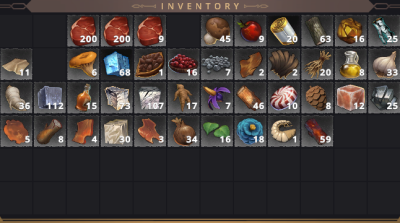ash log: (301, 15, 333, 46)
aurelium ore: (335, 15, 366, 47)
birch log: (368, 15, 400, 47)
durable hide: (234, 48, 267, 80)
granite stone: (33, 81, 66, 113)
limestone stone: (101, 82, 132, 115)
marble stone: (135, 82, 166, 114)
oak log: (234, 82, 267, 114)
silver ore: (368, 82, 400, 113)
soft leather: (1, 115, 33, 147)
spruce log: (35, 115, 66, 147)
strong hide: (68, 115, 98, 147)
tough hide: (134, 116, 166, 147)
yew log: (301, 115, 333, 146)
